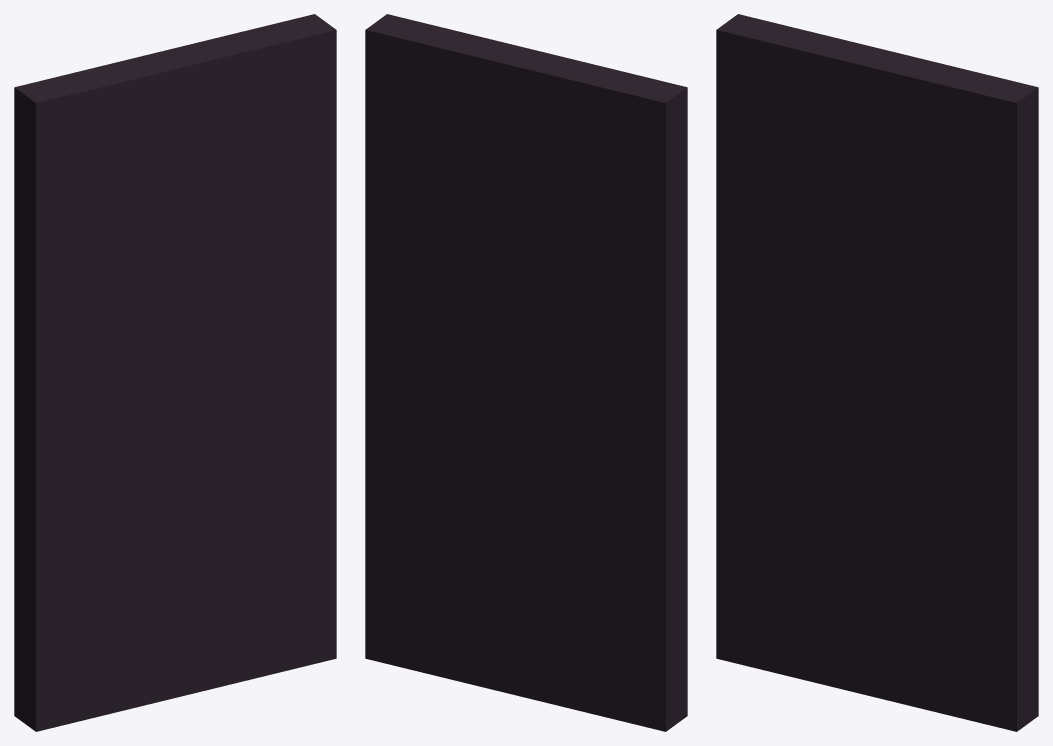
The model's file is wall_textured_f_2_col.gltf.
3 renders of one model, left to right at view 1: azimuth 30°, elevation 25°; view 2: azimuth 150°, elevation 25°; view 3: azimuth 330°, elevation 25°, orthographic.
Visible parts, largest first — view 1: wall_textured_f_2_col; view 2: wall_textured_f_2_col; view 3: wall_textured_f_2_col.
Boxes of the visible parts, x1=… form: wall_textured_f_2_col: x1=14, y1=14, x2=336, y2=731; wall_textured_f_2_col: x1=365, y1=14, x2=687, y2=731; wall_textured_f_2_col: x1=716, y1=14, x2=1038, y2=731.
Size of the model in its own units: 2 by 4 by 0.25.
Materials: 1 (1 with a texture image).
